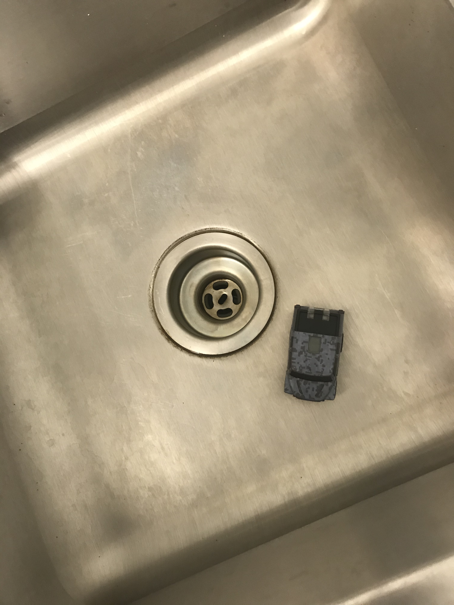MXT: (282, 304, 345, 402)
